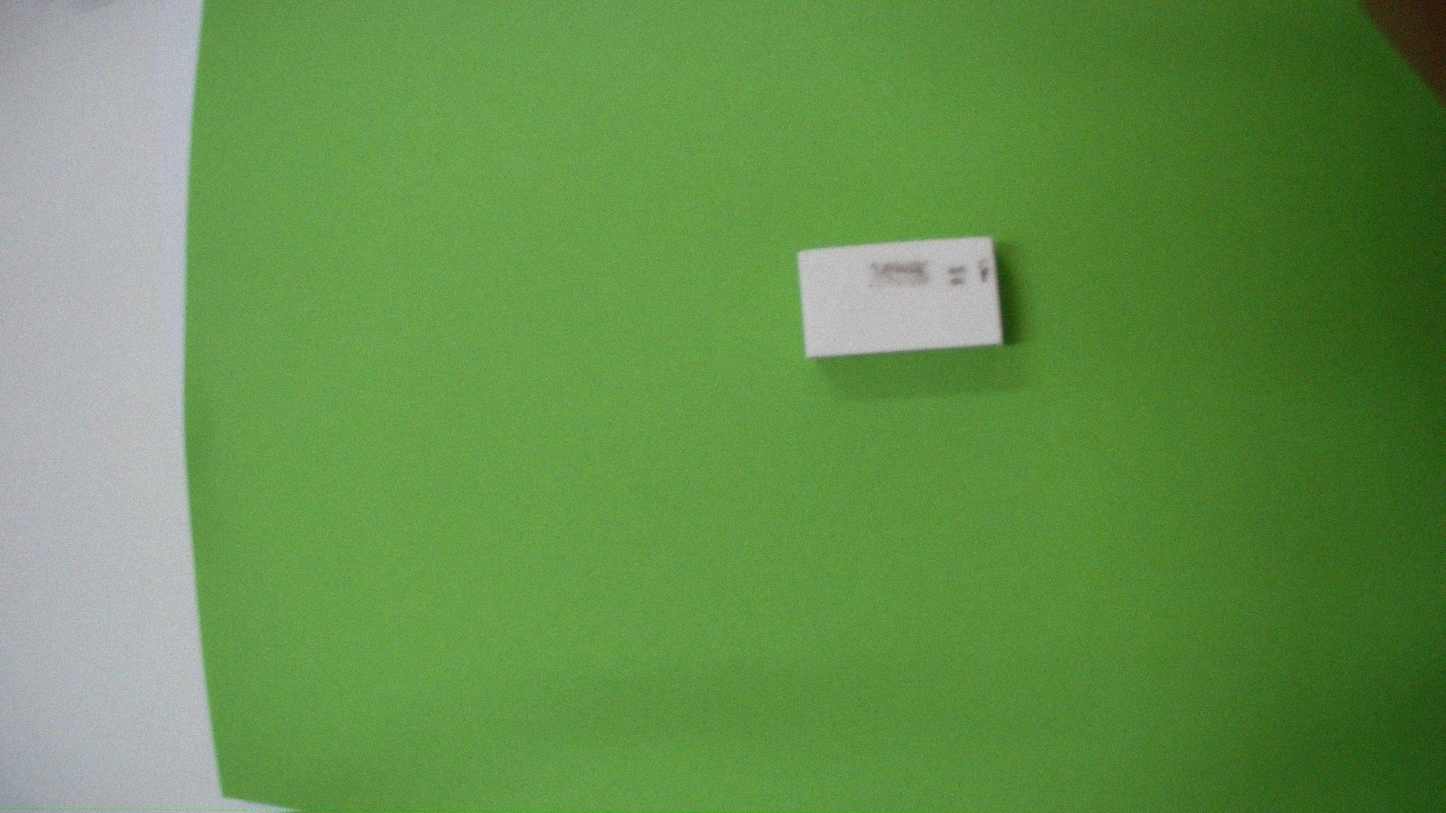gom: (796, 223, 1007, 369)
